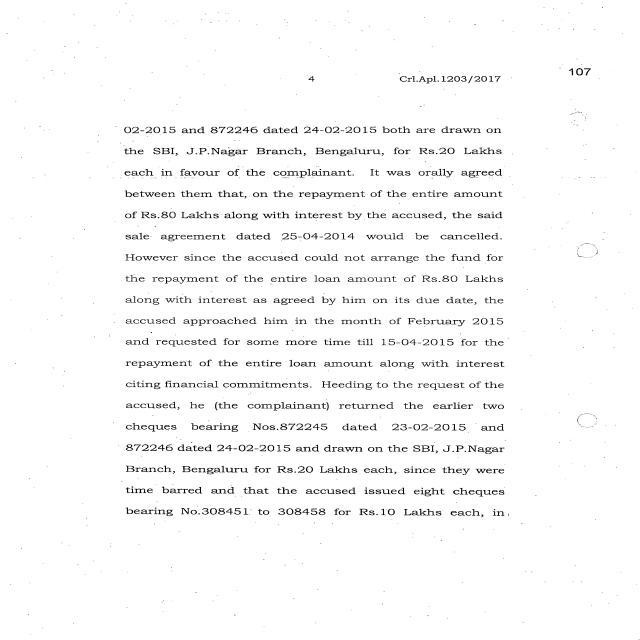page-number: (502, 28, 640, 136)
